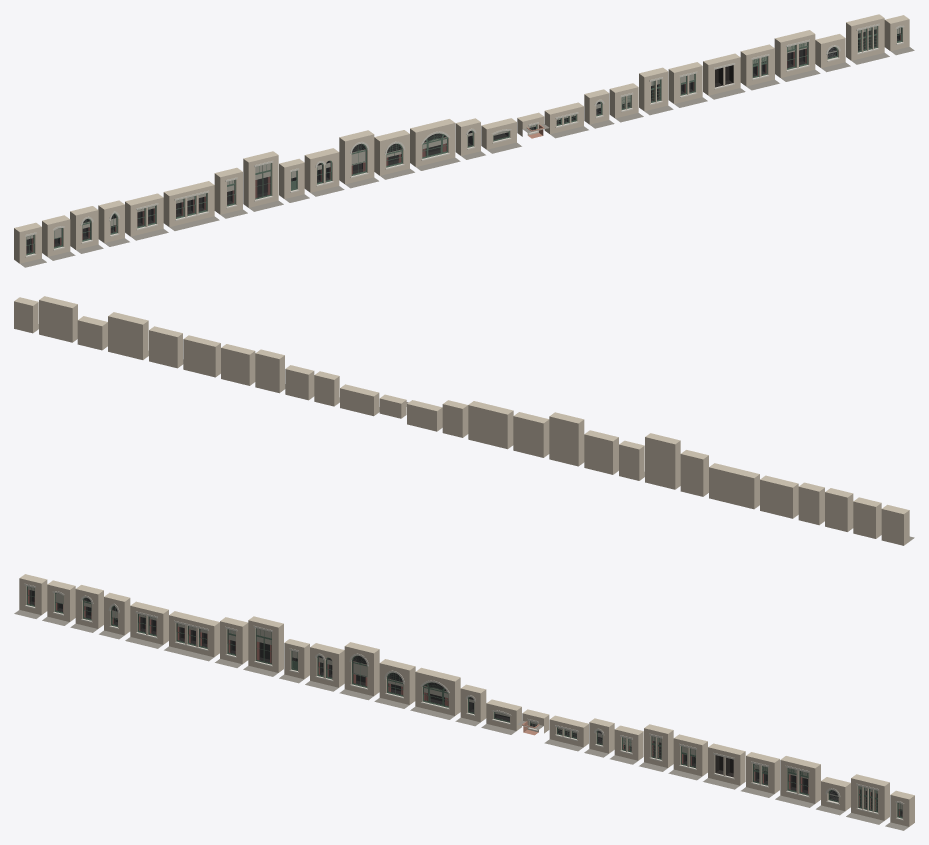
The model's file is k06_window_kit.glb.
3 views of the same model, one above another, from view 1: azimuth 30°, elevation 25°; view 2: azimuth 150°, elevation 25°; view 3: azimuth 330°, elevation 25° (orthographic).
Parts seen in each view (by area): view 1: k06.opening.sash_triple_flat, k06.opening.sash_segmental_fanlight_wide, k06.opening.french_pair_transom, k06.opening.sash_round_fanlight_wide, k06.opening.sash_paired_transom_squared, k06.opening.casement_four_transom_mullioned, k06.opening.sash_paired_flat, k06.opening.sash_round_lattice_wide, k06.opening.sash_paired_round, k06.opening.loggia_open_pair, k06.opening.casement_pair_transom_plate, k06.opening.casement_pair_transom_squared (+15 smaller); view 2: k06.opening.sash_triple_flat, k06.opening.sash_segmental_fanlight_wide, k06.opening.french_pair_transom, k06.opening.sash_round_fanlight_wide, k06.opening.sash_paired_transom_squared, k06.opening.casement_four_transom_mullioned, k06.opening.sash_round_lattice_wide, k06.opening.sash_paired_flat, k06.opening.sash_paired_round, k06.opening.loggia_open_pair, k06.opening.casement_pair_transom_plate, k06.opening.casement_pair_transom_squared (+15 smaller); view 3: k06.opening.sash_triple_flat, k06.opening.sash_segmental_fanlight_wide, k06.opening.french_pair_transom, k06.opening.sash_round_fanlight_wide, k06.opening.sash_paired_transom_squared, k06.opening.casement_four_transom_mullioned, k06.opening.sash_round_lattice_wide, k06.opening.sash_paired_flat, k06.opening.loggia_open_pair, k06.opening.sash_paired_round, k06.opening.casement_pair_transom_plate, k06.opening.casement_pair_transom_squared (+15 smaller).
Boxes of the visible parts, left/top/right/bottom form: k06.opening.sash_triple_flat: left=163, top=181, right=219, bottom=230; k06.opening.sash_segmental_fanlight_wide: left=410, top=119, right=460, bottom=170; k06.opening.french_pair_transom: left=243, top=151, right=283, bottom=211; k06.opening.sash_round_fanlight_wide: left=339, top=130, right=378, bottom=188; k06.opening.sash_paired_transom_squared: left=774, top=30, right=820, bottom=81; k06.opening.casement_four_transom_mullioned: left=846, top=14, right=889, bottom=64; k06.opening.sash_paired_flat: left=125, top=193, right=168, bottom=240; k06.opening.sash_round_lattice_wide: left=374, top=130, right=414, bottom=179; k06.opening.sash_paired_round: left=304, top=148, right=344, bottom=196; k06.opening.loggia_open_pair: left=703, top=53, right=745, bottom=99; k06.opening.casement_pair_transom_plate: left=668, top=62, right=707, bottom=107; k06.opening.casement_pair_transom_squared: left=740, top=44, right=779, bottom=90; k06.opening.sash_triple_flat: left=709, top=463, right=759, bottom=509; k06.opening.sash_segmental_fanlight_wide: left=468, top=401, right=513, bottom=449; k06.opening.french_pair_transom: left=645, top=433, right=680, bottom=489; k06.opening.sash_round_fanlight_wide: left=549, top=412, right=584, bottom=466; k06.opening.sash_paired_transom_squared: left=108, top=312, right=148, bottom=359; k06.opening.casement_four_transom_mullioned: left=39, top=296, right=77, bottom=342; k06.opening.sash_round_lattice_wide: left=513, top=412, right=549, bottom=457; k06.opening.sash_paired_flat: left=760, top=475, right=798, bottom=518; k06.opening.sash_paired_round: left=584, top=430, right=618, bottom=474; k06.opening.loggia_open_pair: left=183, top=335, right=220, bottom=377; k06.opening.casement_pair_transom_plate: left=221, top=344, right=255, bottom=385; k06.opening.casement_pair_transom_squared: left=149, top=326, right=183, bottom=368; k06.opening.sash_triple_flat: left=164, top=611, right=219, bottom=661; k06.opening.sash_segmental_fanlight_wide: left=410, top=667, right=460, bottom=719; k06.opening.french_pair_transom: left=243, top=616, right=283, bottom=676; k06.opening.sash_round_fanlight_wide: left=339, top=642, right=379, bottom=700; k06.opening.sash_paired_transom_squared: left=775, top=756, right=820, bottom=807; k06.opening.casement_four_transom_mullioned: left=846, top=774, right=889, bottom=824; k06.opening.sash_round_lattice_wide: left=374, top=659, right=415, bottom=708; k06.opening.sash_paired_flat: left=125, top=601, right=168, bottom=648; k06.opening.loggia_open_pair: left=703, top=743, right=745, bottom=789; k06.opening.sash_paired_round: left=305, top=643, right=344, bottom=691; k06.opening.casement_pair_transom_plate: left=668, top=734, right=707, bottom=780; k06.opening.casement_pair_transom_squared: left=741, top=752, right=779, bottom=797.
Bounding box in the file's own units: 94.28 × 4.6 × 2.08.
